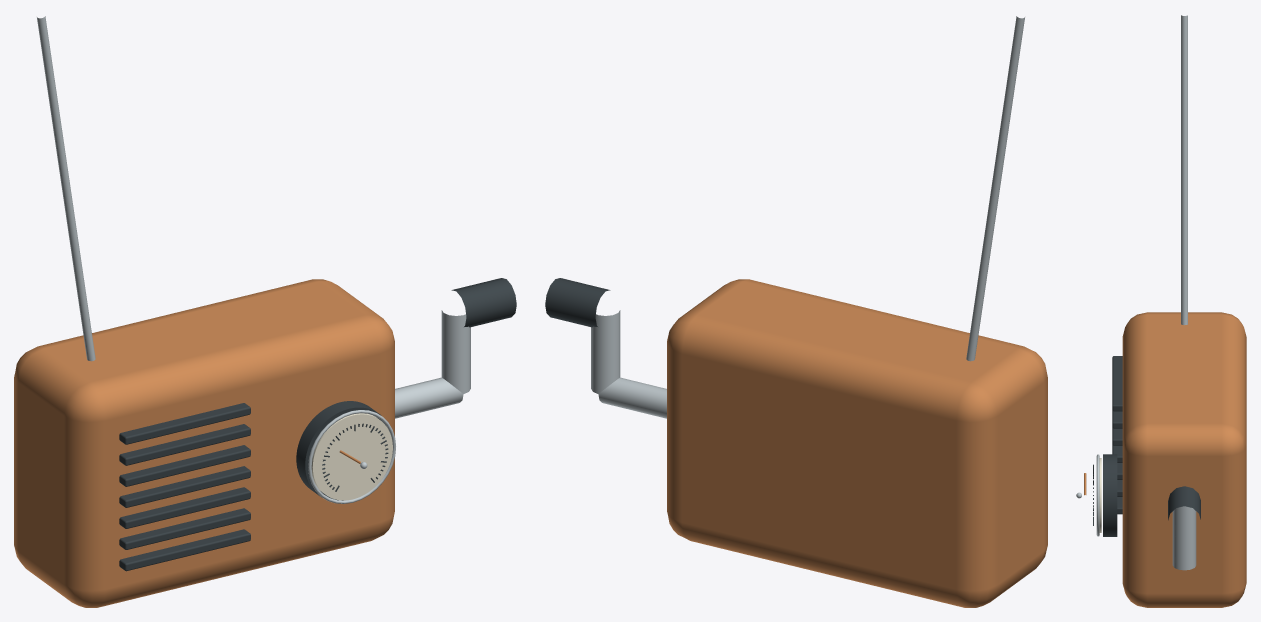
Rendered from abandoned-weather-station-and-storm-shelter-hand-crank-b8132da4__31047.glb.
The picture shows the model from 3 angles, left to right: view 1: azimuth 30°, elevation 25°; view 2: azimuth 150°, elevation 25°; view 3: azimuth 270°, elevation 25°; orthographic projection. The views are drawn at different scales.
Parts seen in each view (by area): view 1: hand-crank-radio; view 2: hand-crank-radio; view 3: hand-crank-radio.
Part boxes in pixels (x1,y1,x2,y2): hand-crank-radio: (14,16,516,607); hand-crank-radio: (545,16,1047,607); hand-crank-radio: (1076,15,1246,607).
Bounding box in the file's own units: 0.373 × 0.4404 × 0.1441.
